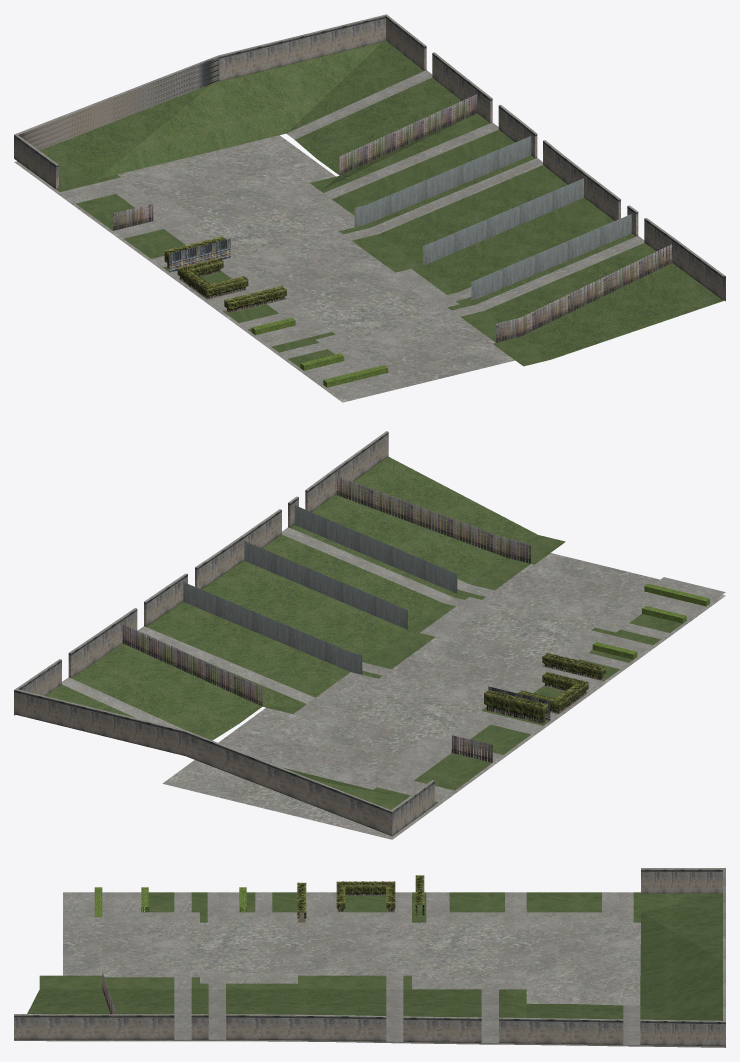
File: oc_flats_gnd12_sfs.obj
3 renders of one model, top to bottom at view 1: azimuth 30°, elevation 25°; view 2: azimuth 150°, elevation 25°; view 3: azimuth 270°, elevation 25°, orthographic.
Parts seen in each view (by area): view 1: OC_FLATS_GND12_SFS; view 2: OC_FLATS_GND12_SFS; view 3: OC_FLATS_GND12_SFS.
Boxes of the visible parts, left/top/right/bottom form: OC_FLATS_GND12_SFS: left=14, top=14, right=725, bottom=402; OC_FLATS_GND12_SFS: left=14, top=431, right=725, bottom=839; OC_FLATS_GND12_SFS: left=14, top=868, right=725, bottom=1047.
Size of the model in its own units: 38.05 by 5.53 by 62.34.
Materials: 9 (9 with a texture image).
